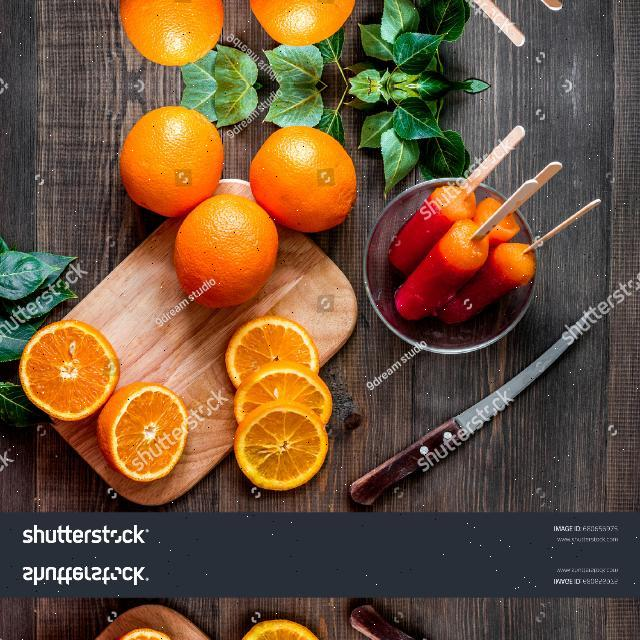Orange: (172, 193, 278, 308), (118, 104, 224, 217), (248, 124, 357, 232), (17, 318, 119, 421), (96, 381, 188, 482), (232, 401, 328, 491), (224, 314, 320, 388), (118, 0, 224, 66), (232, 359, 332, 426), (249, 0, 355, 46), (240, 618, 322, 639)
